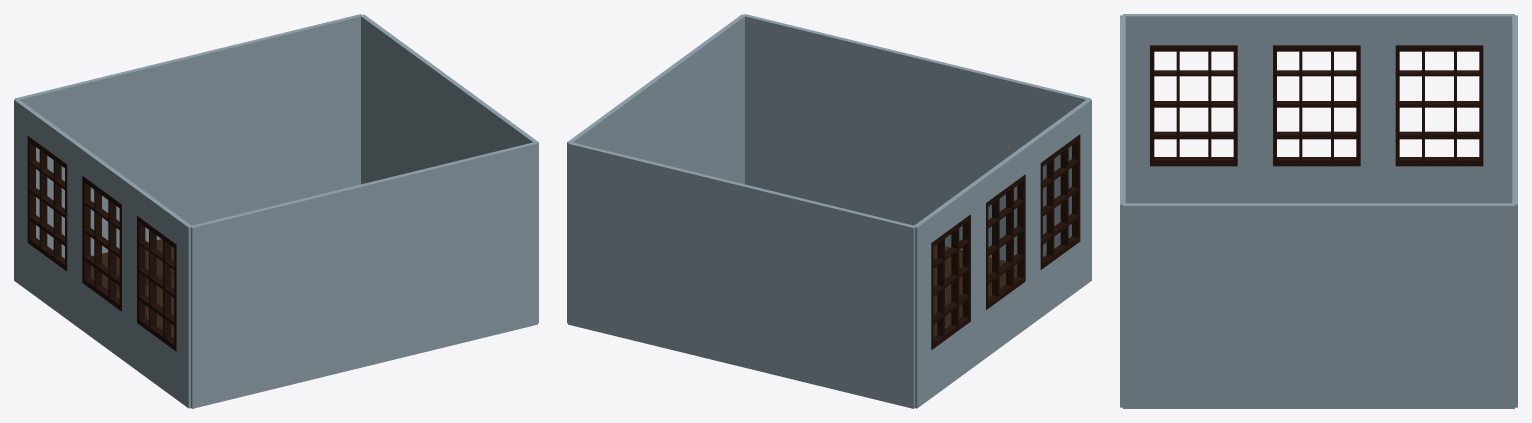
Rendered from room2.fbx.
3 renders of one model, left to right at view 1: azimuth 30°, elevation 25°; view 2: azimuth 150°, elevation 25°; view 3: azimuth 270°, elevation 25°, orthographic. The views are drawn at different scales.
Visible parts, largest first — view 1: Wall1, Cube.001, Plane; view 2: Wall1, Cube.001, Plane; view 3: Wall1, Cube.001.
Part boxes in pixels (<box>): Wall1: <box>14,14,538,408</box>; Cube.001: <box>27,136,176,351</box>; Plane: <box>90,239,174,338</box>; Wall1: <box>567,14,1091,408</box>; Cube.001: <box>931,134,1080,349</box>; Plane: <box>933,244,1017,336</box>; Wall1: <box>1120,14,1517,408</box>; Cube.001: <box>1150,45,1483,166</box>.
Bounding box in the file's own units: 811 × 400 × 710.
